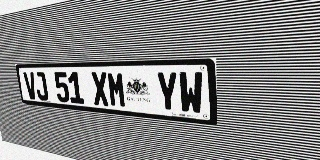1: (67, 72, 84, 104)
5: (54, 72, 70, 103)
J: (34, 72, 49, 101)
M: (107, 72, 127, 108)
V: (23, 72, 38, 100)
W: (178, 72, 204, 115)
X: (91, 72, 110, 106)
Y: (155, 72, 179, 113)
